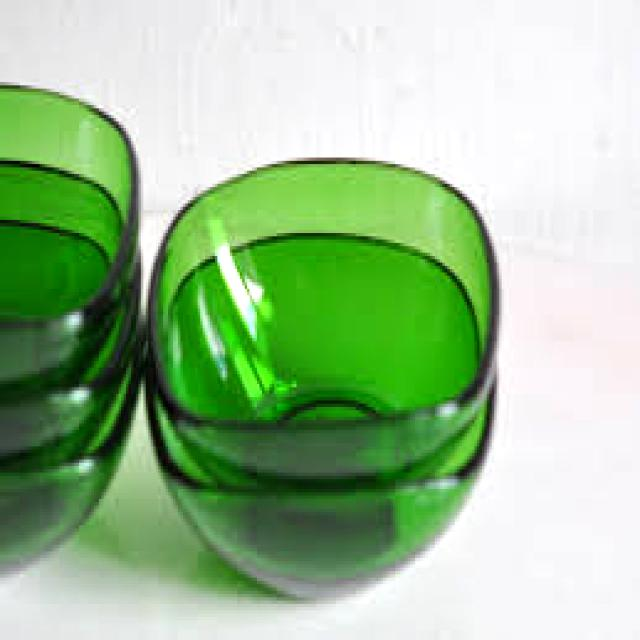Glass: (141, 148, 500, 596), (0, 79, 145, 478)
